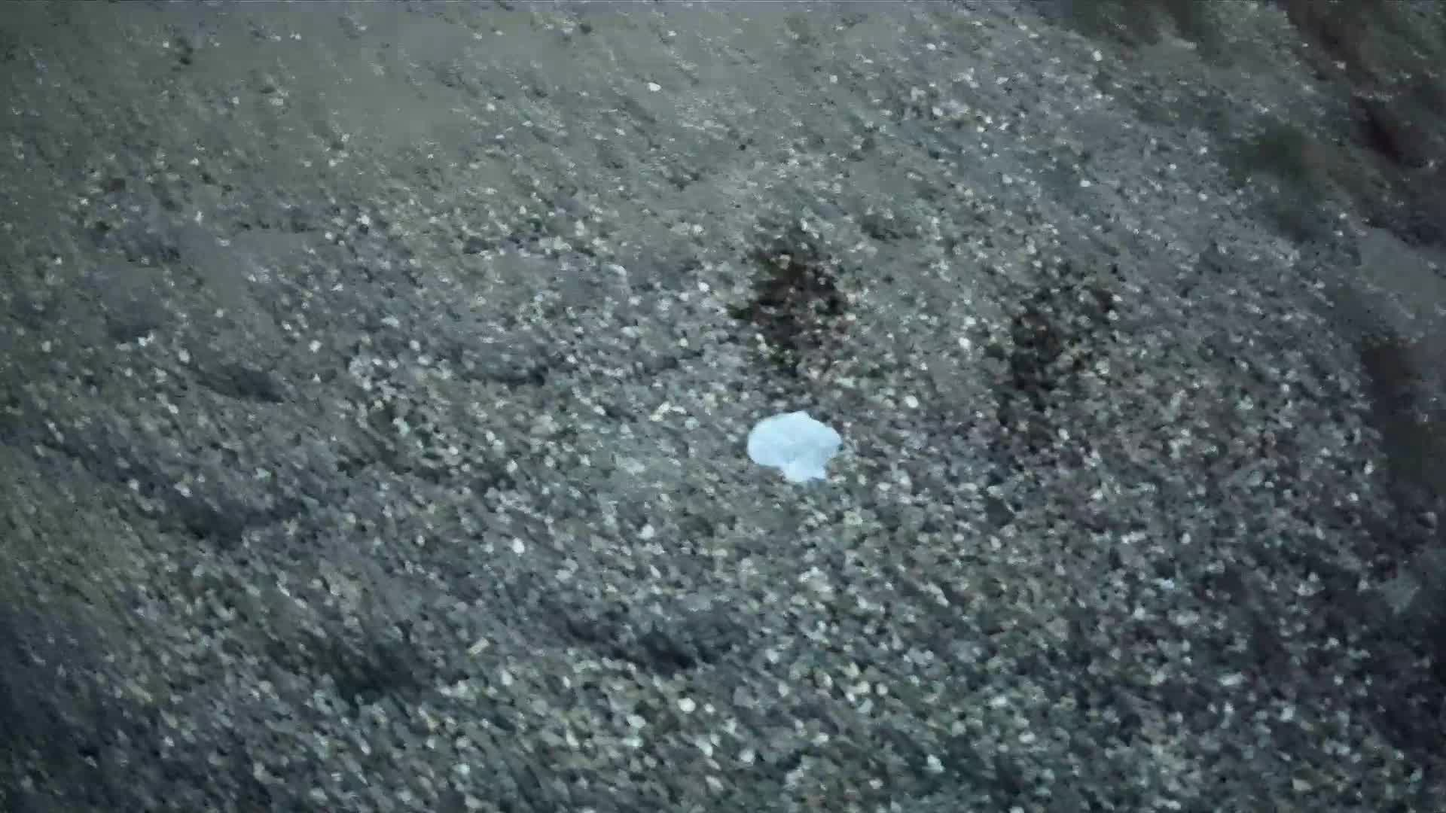Target: (735, 409, 847, 487)
